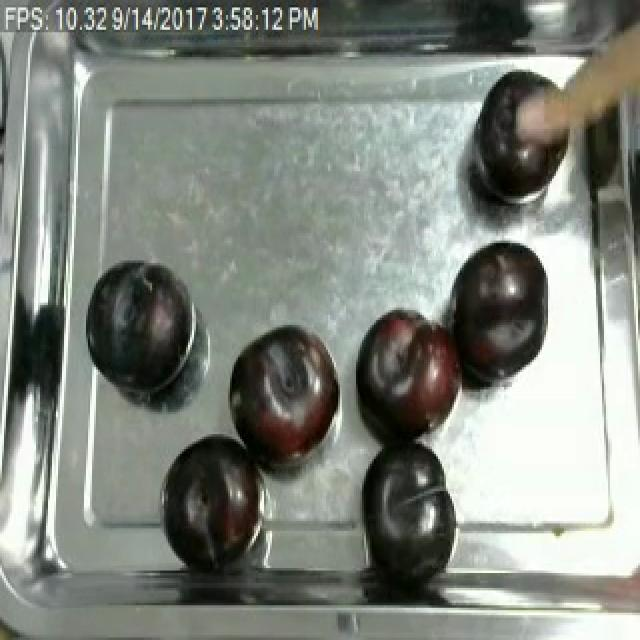Fruit: (222, 313, 348, 481), (348, 300, 474, 452), (442, 233, 554, 392), (352, 432, 466, 586), (468, 59, 582, 211), (82, 255, 196, 397), (160, 427, 270, 563)
